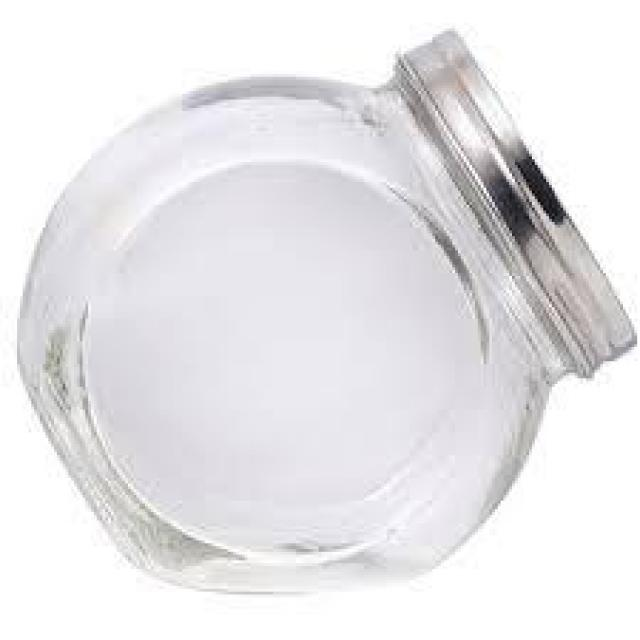non-organic waste: (10, 26, 639, 600)
